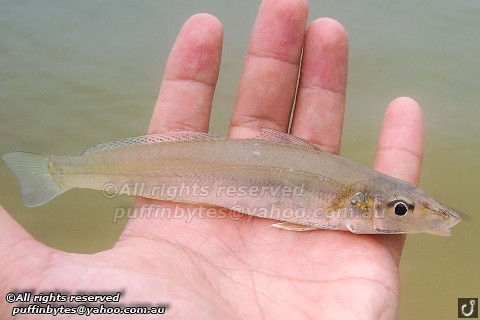kiss: (3, 124, 468, 247)
